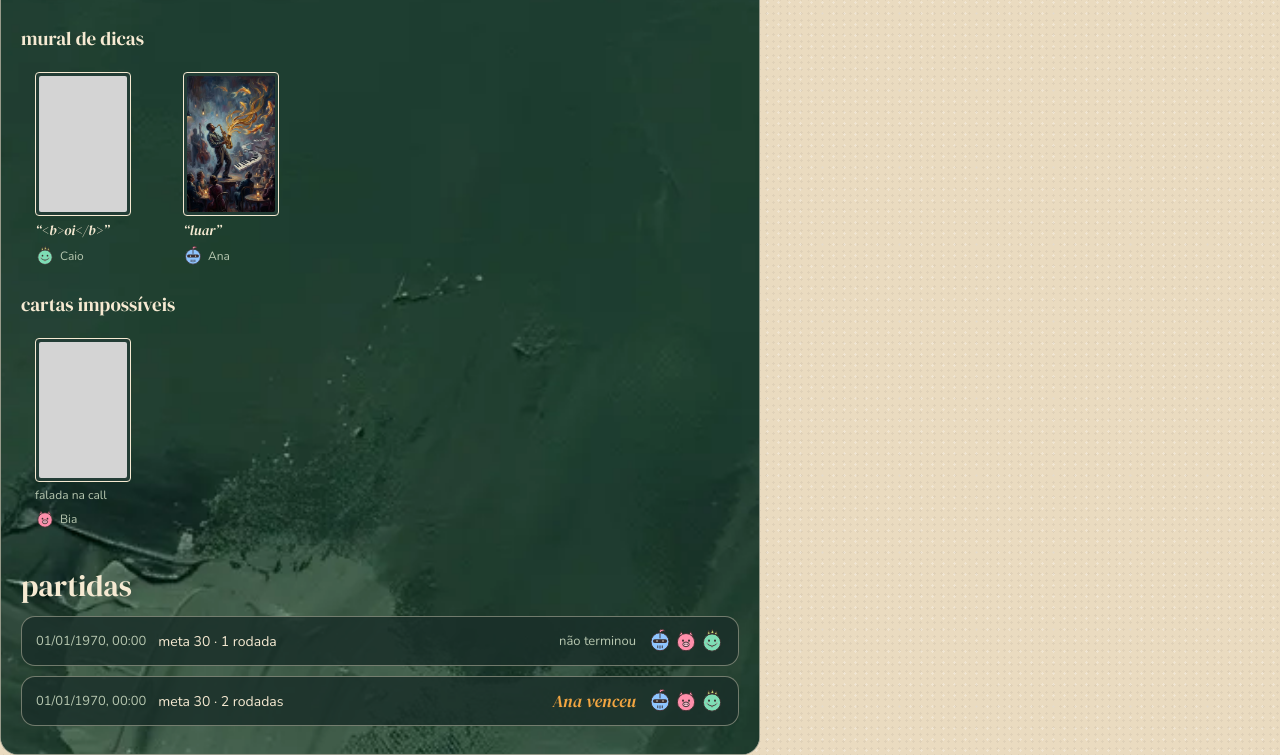
aba histórico do Diquisti › abrir uma partida mostra o placar final e as rodadas
(page scrolled)
Expected: the heading "partidas" is shown, 21,565 -> 132,606
Click the button "01/01/1970, 00:00 meta 30 · 2 rodadas Ana venceu".
click(91, 701)  # box 22,677 -> 738,725
(page scrolled)
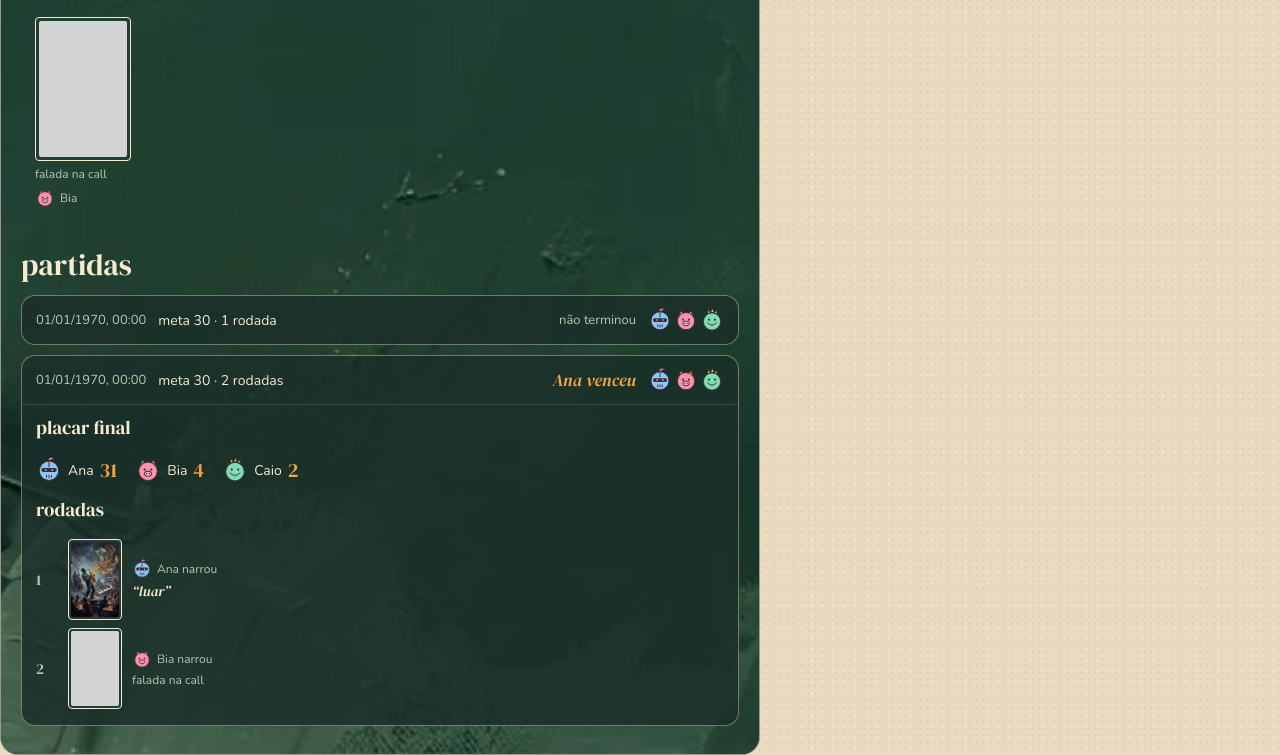
Now the heading "placar final" is shown, box 36,414 -> 131,440
Now the text "“luar”" is shown, box 132,581 -> 171,601
